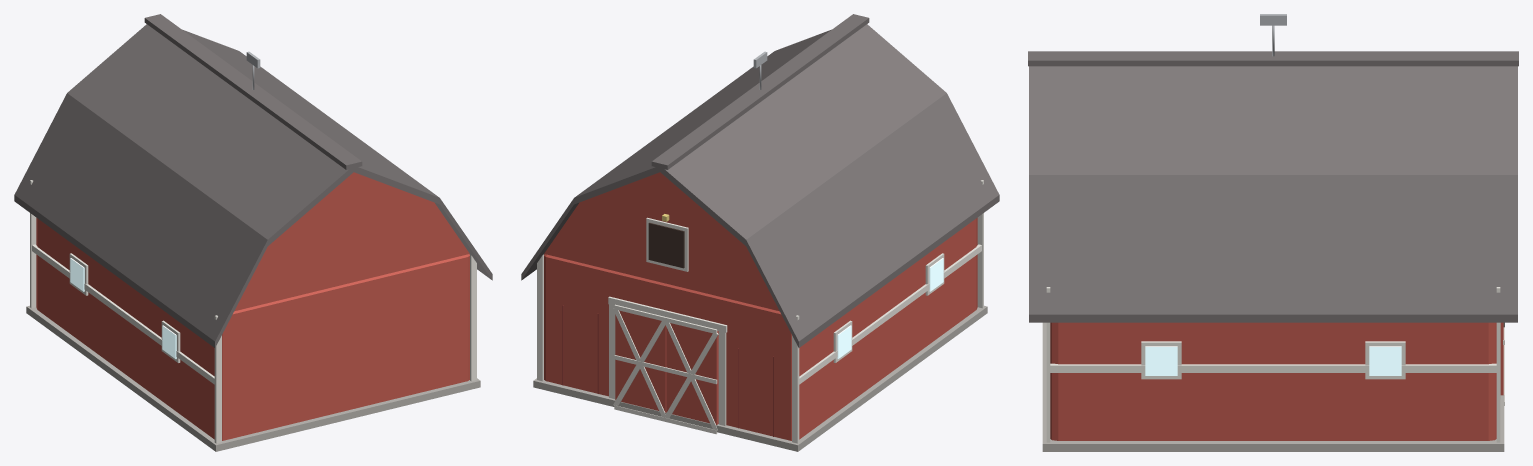
The model's file is world_barn.glb.
3 views of the same model, side by side, from view 1: azimuth 30°, elevation 25°; view 2: azimuth 150°, elevation 25°; view 3: azimuth 270°, elevation 25° (orthographic). The views are drawn at different scales.
Parts seen in each view (by area): view 1: body; view 2: body, door_l, door_r; view 3: body.
Boxes of the visible parts, left/top/right/bottom form: body: left=14, top=14, right=492, bottom=451; body: left=521, top=14, right=999, bottom=451; door_l: left=664, top=317, right=718, bottom=434; door_r: left=613, top=304, right=666, bottom=421; body: left=1028, top=14, right=1518, bottom=451.
Bounding box in the file's own units: 8.7 × 8.88 × 10.95.
